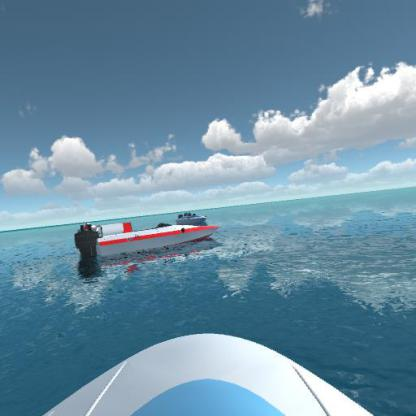usv1: (175, 207, 211, 228)
usv3: (74, 220, 226, 262), (72, 216, 104, 232)
